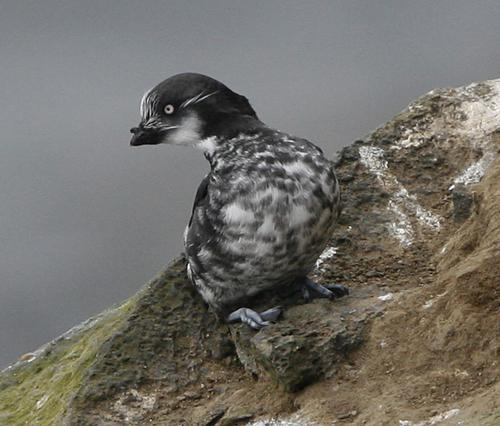006.Least_Auklet: (130, 74, 350, 331)
